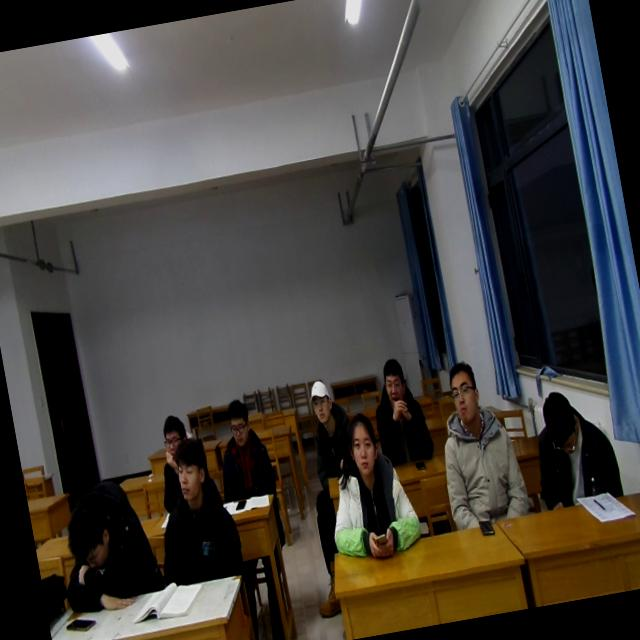bow: (49, 474, 167, 618)
down: (534, 382, 584, 460), (220, 394, 254, 450)
lookup: (169, 431, 214, 506), (340, 406, 384, 479), (442, 358, 485, 428), (375, 352, 411, 408), (153, 406, 190, 460), (302, 377, 336, 428), (361, 518, 398, 564)
sit: (426, 356, 532, 532), (313, 404, 425, 566), (142, 432, 246, 588), (524, 382, 626, 514), (208, 394, 280, 504), (366, 353, 436, 466), (299, 376, 362, 482), (148, 413, 196, 511)
